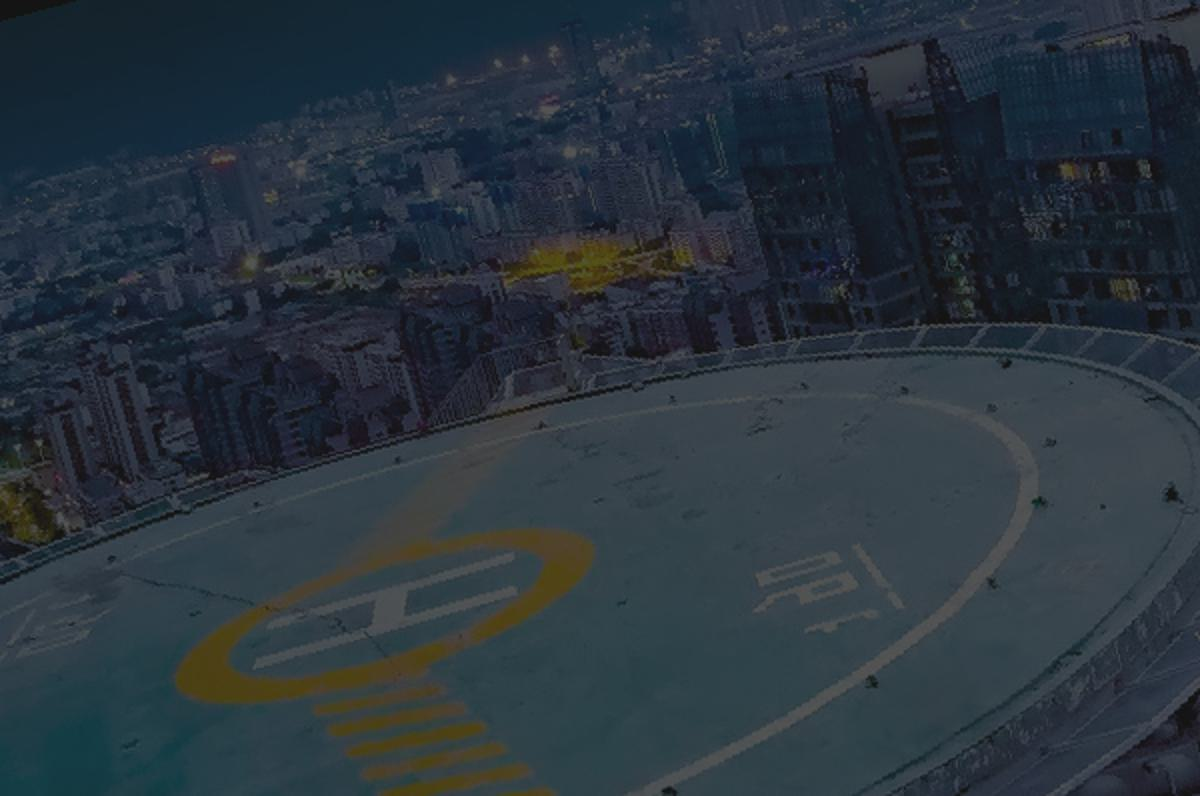Apron: (182, 518, 604, 695)
